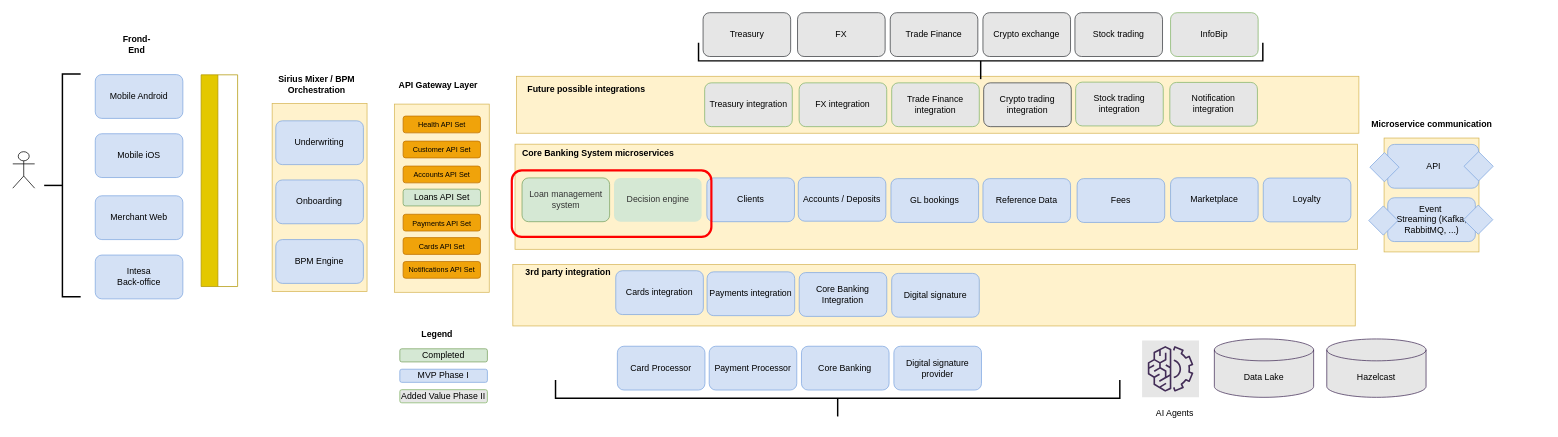
This 1558x437 diagram has some shape labels left out. The centre of each missing label's shape, as x and y in pixels:
"Actor" goes at [23,169].
"Authentication" goes at [219,180].
